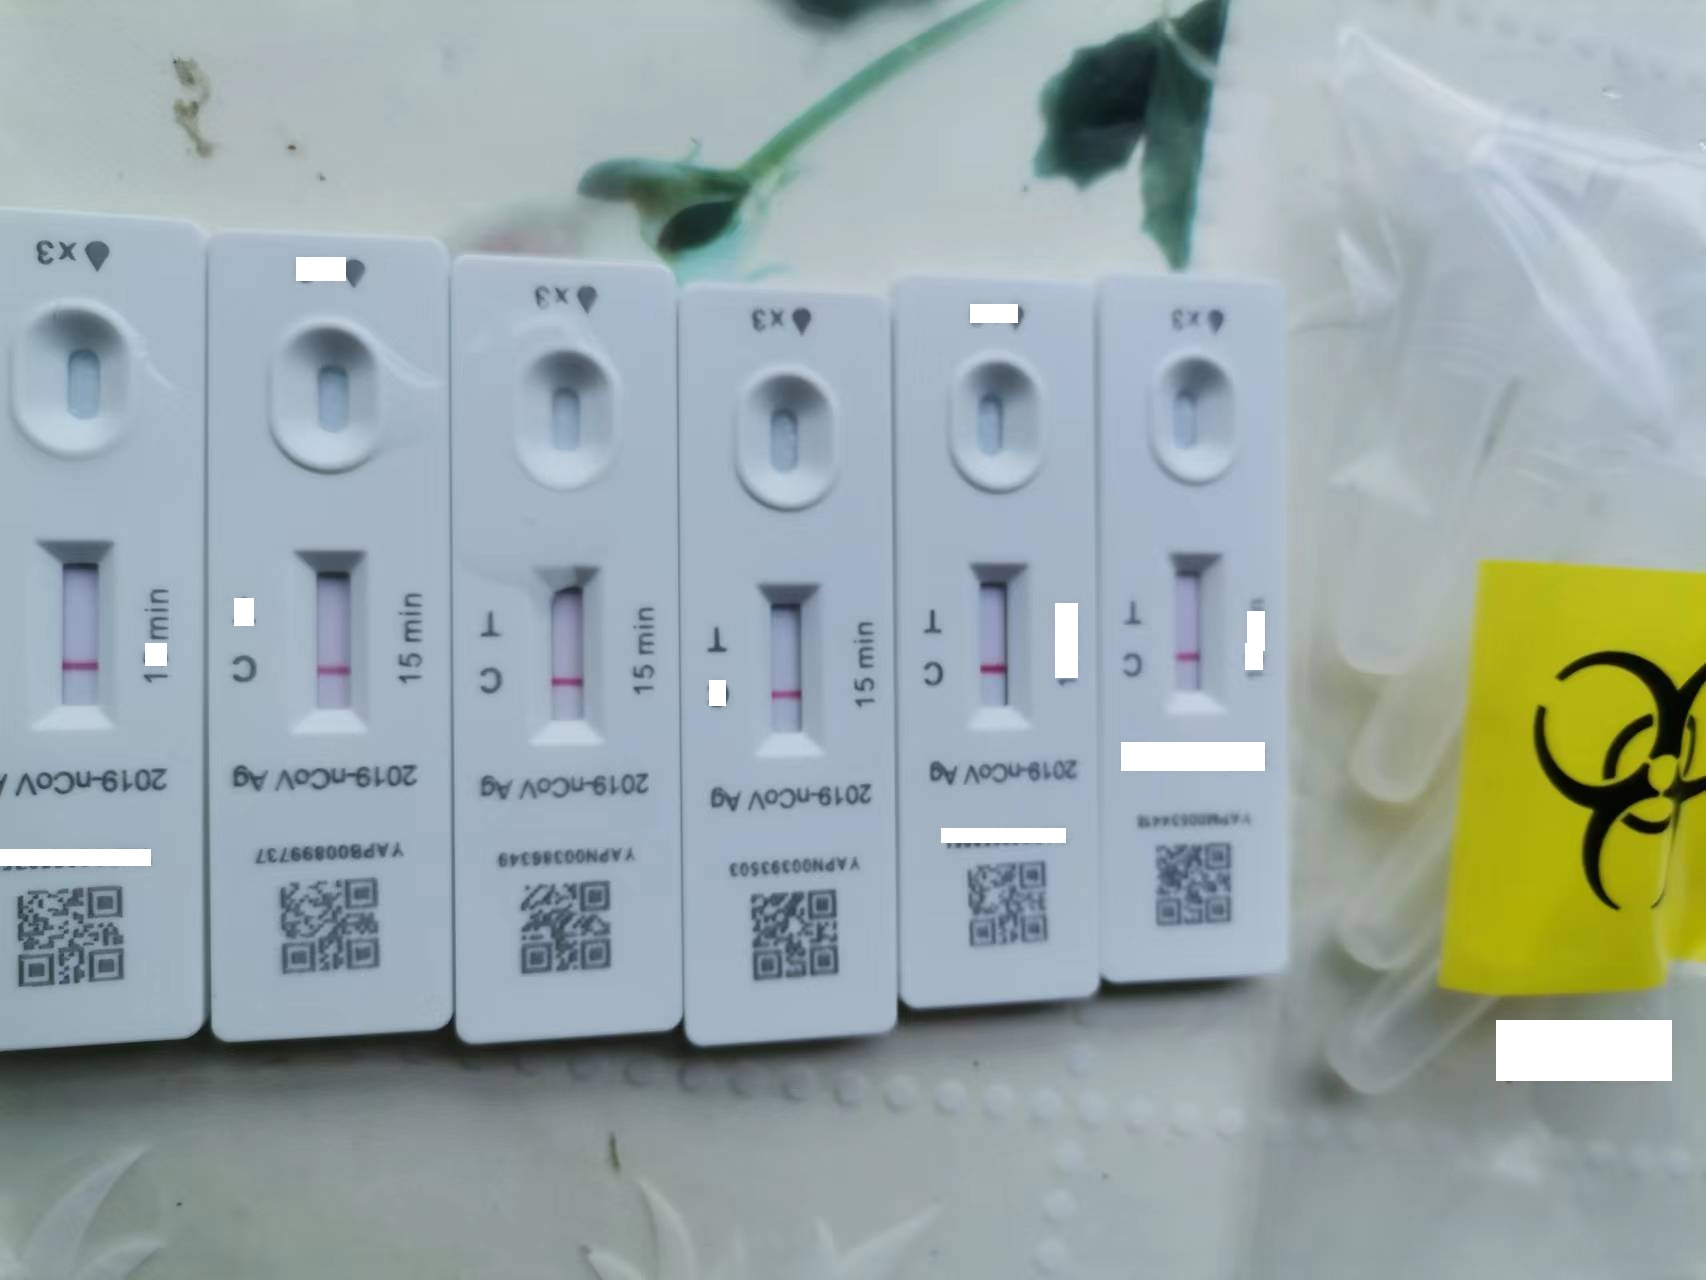negative: (286, 549, 376, 727), (35, 541, 120, 723), (530, 562, 602, 742), (753, 581, 825, 757), (963, 559, 1032, 733), (1162, 551, 1227, 713)
